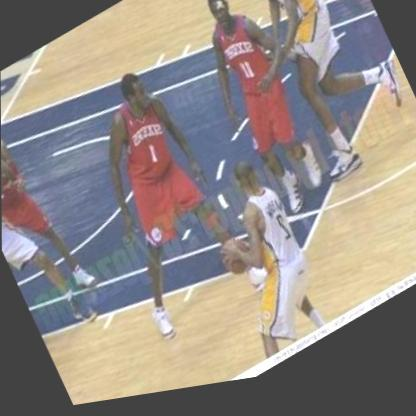basketball: (215, 235, 261, 291)
